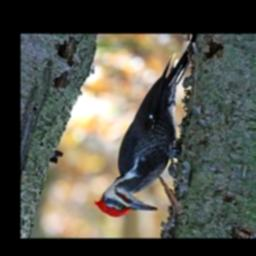Woodpecker: (93, 36, 194, 219)
